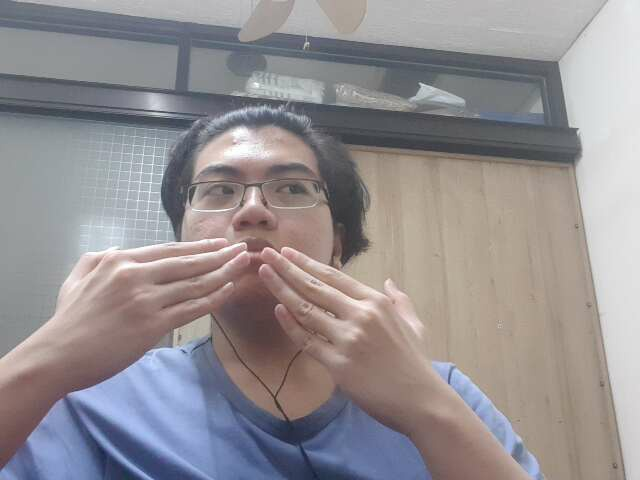thanks: (48, 237, 467, 432)
